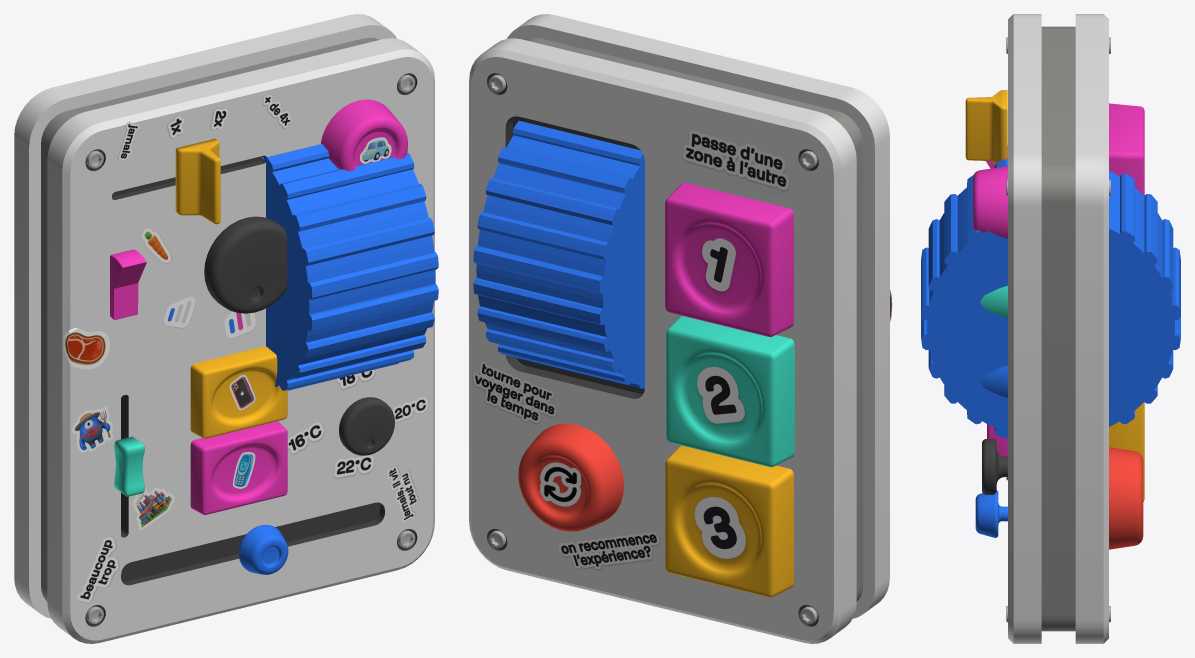
The model's file is configurator.glb.
3 views of the same model, side by side, from view 1: azimuth 30°, elevation 25°; view 2: azimuth 150°, elevation 25°; view 3: azimuth 270°, elevation 25° (orthographic). The views are drawn at different scales.
Parts seen in each view (by area): view 1: object.001, gear-real, 6b, 3, 6a, 2a, 1, 7, 4, 8, 5, 4a-stickers (+11 smaller); view 2: object.001, gear-real, gear-fake, spot1, spot2, spot3, reset, Empty.023, stickers gear, Empty.024, stickzspot3, stickzspot2 (+2 smaller); view 3: object.001, gear-real, gear-fake, reset, 1, spot1, 2a, spot3, 8, 7, 2c, 2b.
Part boxes in pixels (bbox=[...]): object.001: bbox=[14, 14, 434, 643]; gear-real: bbox=[262, 144, 438, 390]; 6b: bbox=[190, 421, 287, 514]; 3: bbox=[204, 216, 287, 313]; 6a: bbox=[190, 346, 287, 438]; 2a: bbox=[321, 99, 407, 171]; 1: bbox=[175, 138, 220, 224]; 7: bbox=[339, 397, 394, 455]; 4: bbox=[110, 249, 146, 319]; 8: bbox=[238, 524, 288, 574]; 5: bbox=[114, 436, 144, 496]; 4a-stickers: bbox=[62, 328, 110, 369]; object.001: bbox=[469, 14, 889, 643]; gear-real: bbox=[473, 121, 644, 388]; gear-fake: bbox=[473, 121, 642, 388]; spot1: bbox=[665, 182, 793, 336]; spot2: bbox=[666, 315, 794, 467]; spot3: bbox=[665, 445, 793, 597]; reset: bbox=[518, 423, 623, 531]; Empty.023: bbox=[682, 130, 789, 190]; stickers gear: bbox=[472, 361, 556, 423]; Empty.024: bbox=[558, 531, 659, 569]; stickzspot3: bbox=[694, 497, 745, 560]; stickzspot2: bbox=[697, 367, 744, 425]; object.001: bbox=[1008, 14, 1108, 643]; gear-real: bbox=[921, 159, 1180, 438]; gear-fake: bbox=[1109, 173, 1180, 426]; reset: bbox=[1109, 447, 1143, 549]; 1: bbox=[965, 90, 1007, 163]; spot1: bbox=[1109, 103, 1144, 195]; 2a: bbox=[973, 166, 1007, 238]; spot3: bbox=[1109, 402, 1144, 501]; 8: bbox=[975, 490, 1007, 537]; 7: bbox=[982, 439, 1007, 494]; 2c: bbox=[980, 365, 1007, 397]; 2b: bbox=[980, 286, 1007, 317].
Bounding box in the file's own units: 12.82 × 16.97 × 8.21.
43 materials, 29 textured.
